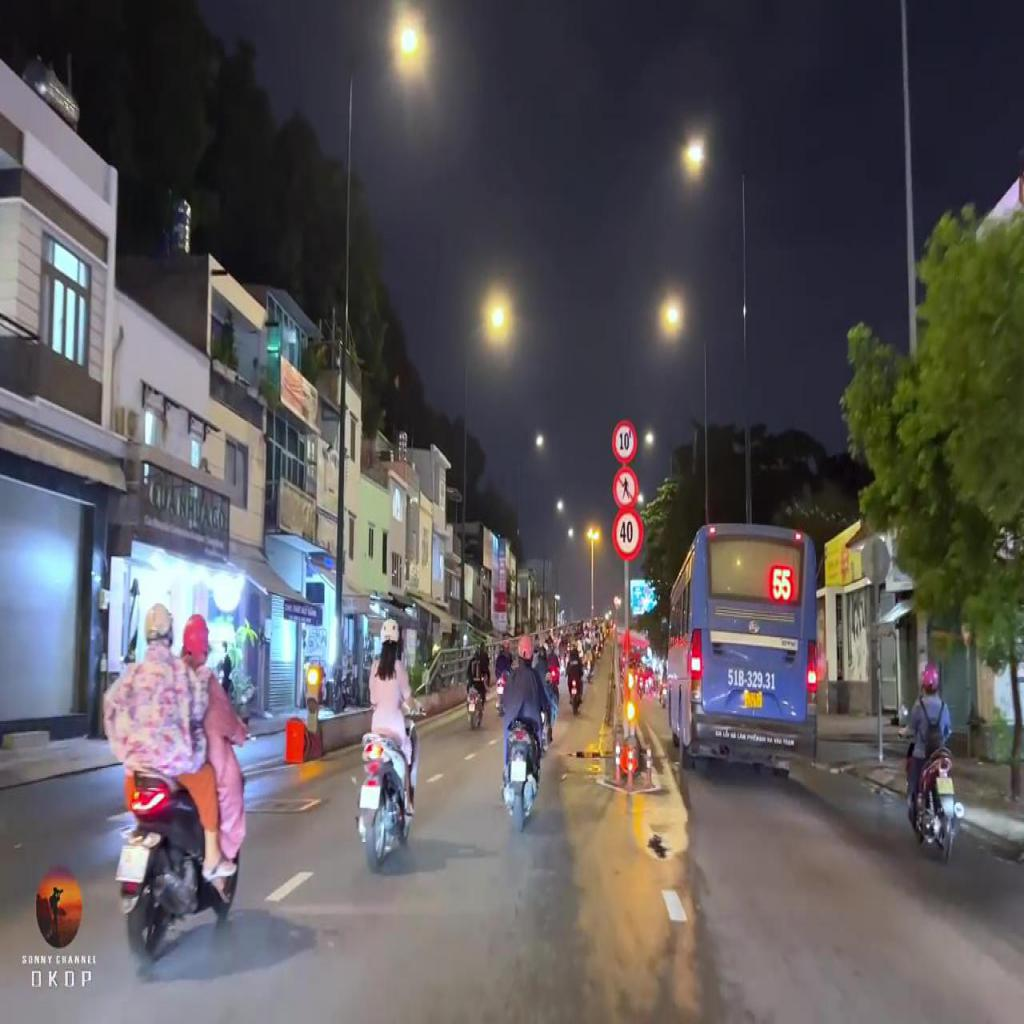khac: (612, 417, 639, 462), (612, 468, 639, 508)
toc_do_toi_da_40: (612, 506, 645, 562)
